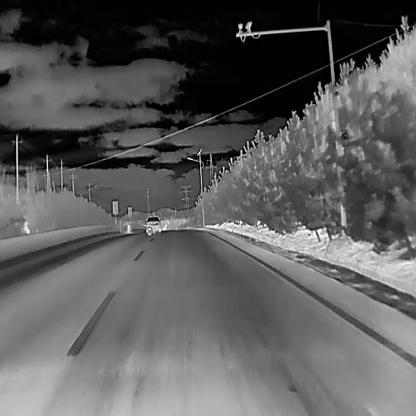car: (146, 216, 160, 233)
